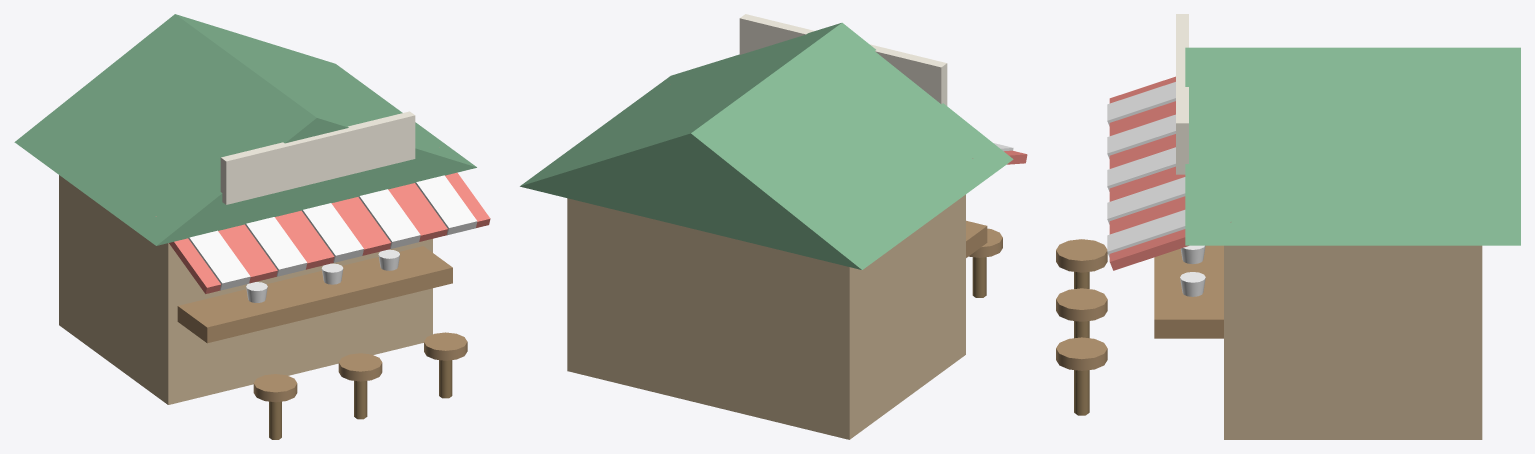
Rendered from warkop.glb.
The picture shows the model from 3 angles, left to right: view 1: azimuth 30°, elevation 25°; view 2: azimuth 150°, elevation 25°; view 3: azimuth 270°, elevation 25°; orthographic projection. The views are drawn at different scales.
Visible parts, largest first — view 1: warkop; view 2: warkop; view 3: warkop.
Part boxes in pixels (x1,y1,x2,y2): warkop: (14, 14, 490, 439); warkop: (520, 14, 1027, 439); warkop: (1056, 14, 1520, 439).
Size of the model in its own units: 1.7 by 1.35 by 1.8.
